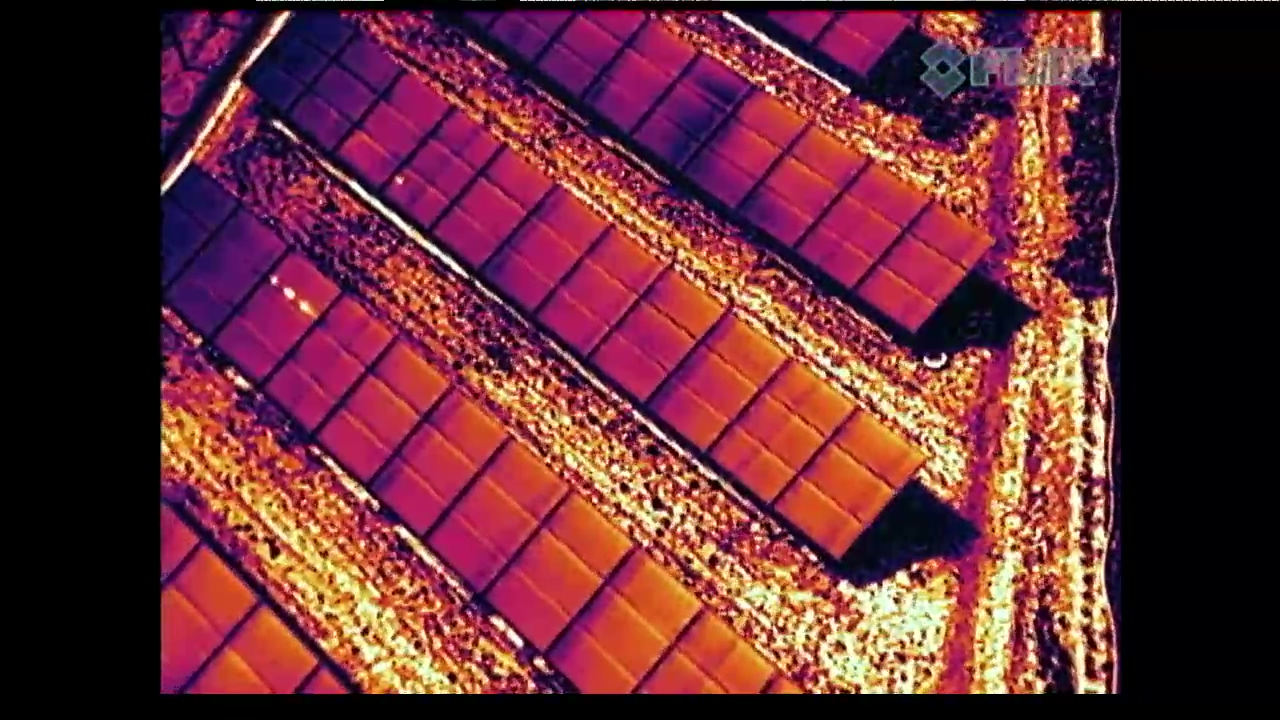hotspot: (208, 251, 340, 378), (371, 106, 505, 226)
